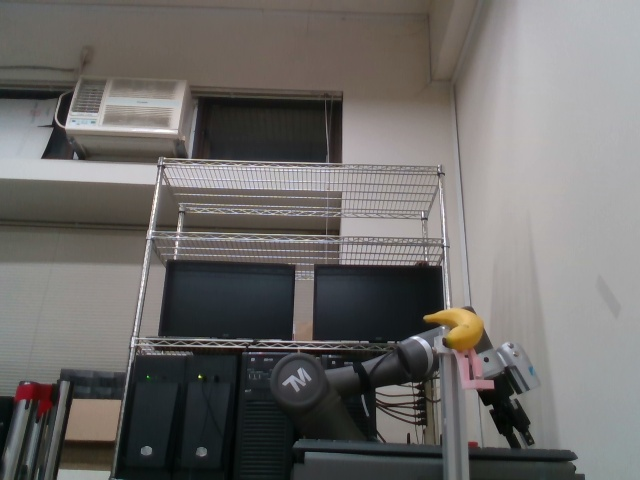banana: (419, 304, 484, 352)
